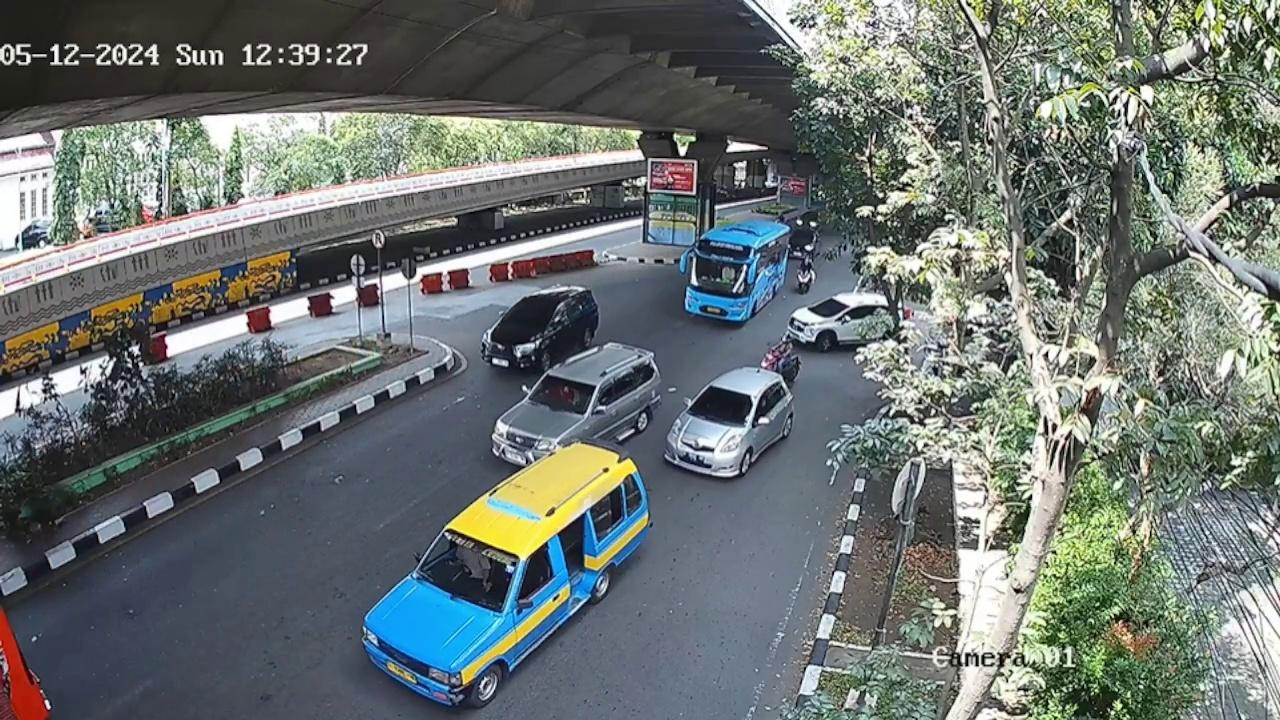pakai: (548, 380, 578, 408)
tidak-pakai: (447, 541, 494, 590)
windshield: (412, 529, 522, 611), (687, 381, 755, 436), (526, 376, 598, 413), (498, 298, 556, 330)
